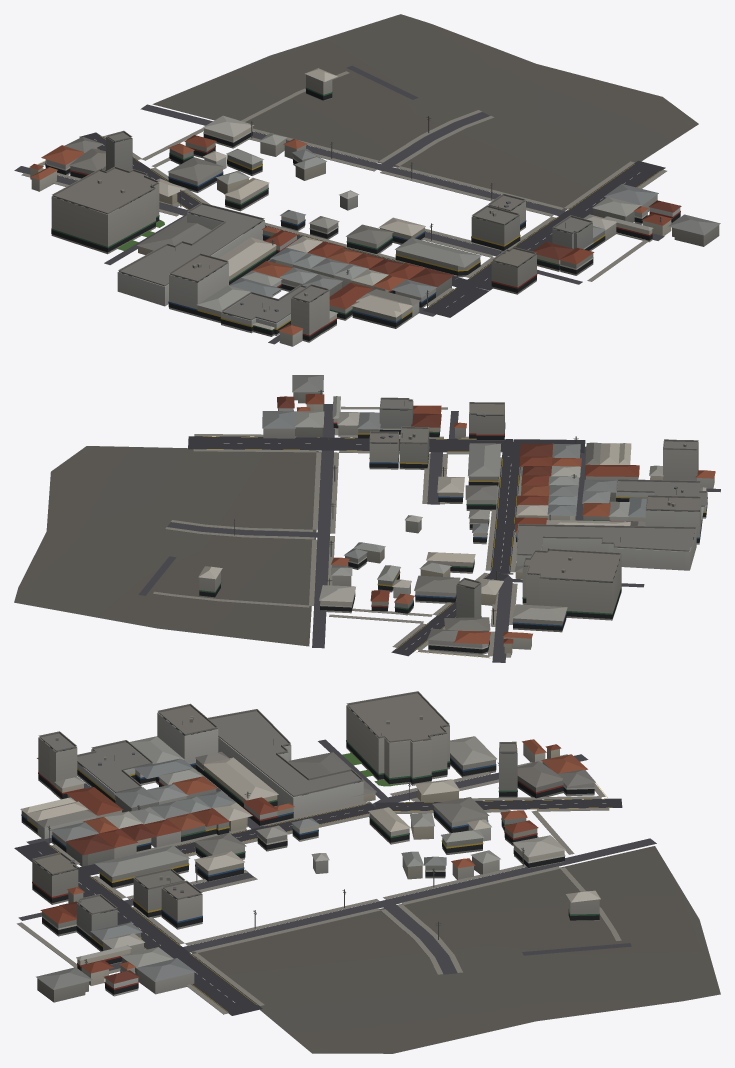
The picture shows the model from 3 angles, top to bottom: view 1: azimuth 30°, elevation 25°; view 2: azimuth 150°, elevation 25°; view 3: azimuth 270°, elevation 25°; orthographic projection. The views are drawn at different scales.
Visible parts, largest first — view 1: Landuse__r-15c-6, Buildings__r-15c-6-col, Oliva-Perez Building-col, Sidewalks__r-15c-6-col, Roads_Minor__r-15c-6, Windows__r-15c-6, Roads_Major__r-15c-6, Homewise-col, Luis Amigo Ladies Dormitory-col, Elicon House-col, GMT Building-col, Cebu Regal Pension House-col (+4 smaller); view 2: Landuse__r-15c-6, Buildings__r-15c-6-col, Roads_Major__r-15c-6, Sidewalks__r-15c-6-col, Roads_Minor__r-15c-6, Oliva-Perez Building-col, Windows__r-15c-6, Homewise-col, Luis Amigo Ladies Dormitory-col, GMT Building-col, Elicon House-col, Sunstar Publishing Inc.-col (+6 smaller); view 3: Landuse__r-15c-6, Buildings__r-15c-6-col, Sidewalks__r-15c-6-col, Oliva-Perez Building-col, Roads_Major__r-15c-6, Roads_Minor__r-15c-6, Windows__r-15c-6, Luis Amigo Ladies Dormitory-col, Homewise-col, Elicon House-col, GMT Building-col, Sunstar Publishing Inc.-col (+5 smaller).
Part boxes in pixels (x1=…): Landuse__r-15c-6: x1=117, y1=14, x2=698, y2=250; Buildings__r-15c-6-col: x1=29, y1=115, x2=720, y2=346; Oliva-Perez Building-col: x1=51, y1=166, x2=159, y2=254; Sidewalks__r-15c-6-col: x1=21, y1=71, x2=666, y2=305; Roads_Minor__r-15c-6: x1=14, y1=65, x2=664, y2=344; Windows__r-15c-6: x1=122, y1=130, x2=680, y2=340; Roads_Major__r-15c-6: x1=79, y1=132, x2=665, y2=317; Homewise-col: x1=168, y1=253, x2=228, y2=316; Luis Amigo Ladies Dormitory-col: x1=220, y1=284, x2=306, y2=335; Elicon House-col: x1=395, y1=237, x2=481, y2=277; GMT Building-col: x1=491, y1=247, x2=537, y2=294; Cebu Regal Pension House-col: x1=106, y1=130, x2=132, y2=170; Landuse__r-15c-6: x1=14, y1=446, x2=321, y2=646; Buildings__r-15c-6-col: x1=262, y1=375, x2=715, y2=654; Roads_Major__r-15c-6: x1=188, y1=436, x2=585, y2=656; Sidewalks__r-15c-6-col: x1=153, y1=406, x2=521, y2=657; Roads_Minor__r-15c-6: x1=138, y1=404, x2=720, y2=662; Oliva-Perez Building-col: x1=522, y1=548, x2=621, y2=620; Windows__r-15c-6: x1=278, y1=409, x2=702, y2=630; Homewise-col: x1=645, y1=495, x2=701, y2=544; Luis Amigo Ladies Dormitory-col: x1=615, y1=479, x2=707, y2=518; GMT Building-col: x1=469, y1=402, x2=505, y2=440; Elicon House-col: x1=468, y1=443, x2=500, y2=486; Sunstar Publishing Inc.-col: x1=369, y1=431, x2=399, y2=469; Landuse__r-15c-6: x1=191, y1=753, x2=720, y2=1053; Buildings__r-15c-6-col: x1=20, y1=709, x2=565, y2=1002; Sidewalks__r-15c-6-col: x1=17, y1=754, x2=621, y2=1014; Oliva-Perez Building-col: x1=346, y1=691, x2=450, y2=785; Roads_Major__r-15c-6: x1=14, y1=798, x2=622, y2=1015; Roads_Minor__r-15c-6: x1=18, y1=739, x2=656, y2=974; Windows__r-15c-6: x1=21, y1=741, x2=565, y2=994; Luis Amigo Ladies Dormitory-col: x1=77, y1=740, x2=153, y2=802; Homewise-col: x1=157, y1=703, x2=218, y2=769; Elicon House-col: x1=95, y1=845, x2=190, y2=888; GMT Building-col: x1=32, y1=852, x2=78, y2=904; Sunstar Publishing Inc.-col: x1=161, y1=880, x2=202, y2=929.
Bounding box in the file's own units: 345 × 23.57 × 319.
